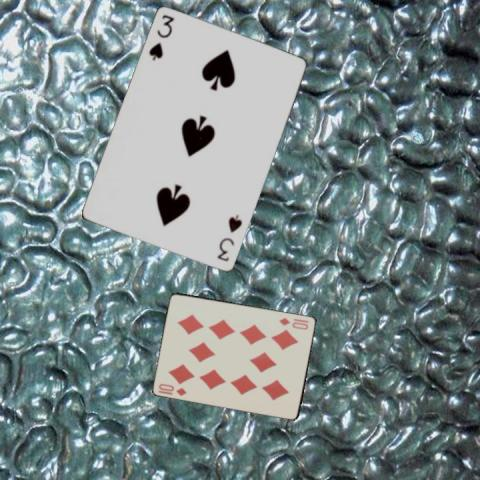10d: (156, 380, 188, 397), (277, 314, 309, 330)
3s: (146, 12, 176, 63), (215, 212, 244, 263)
